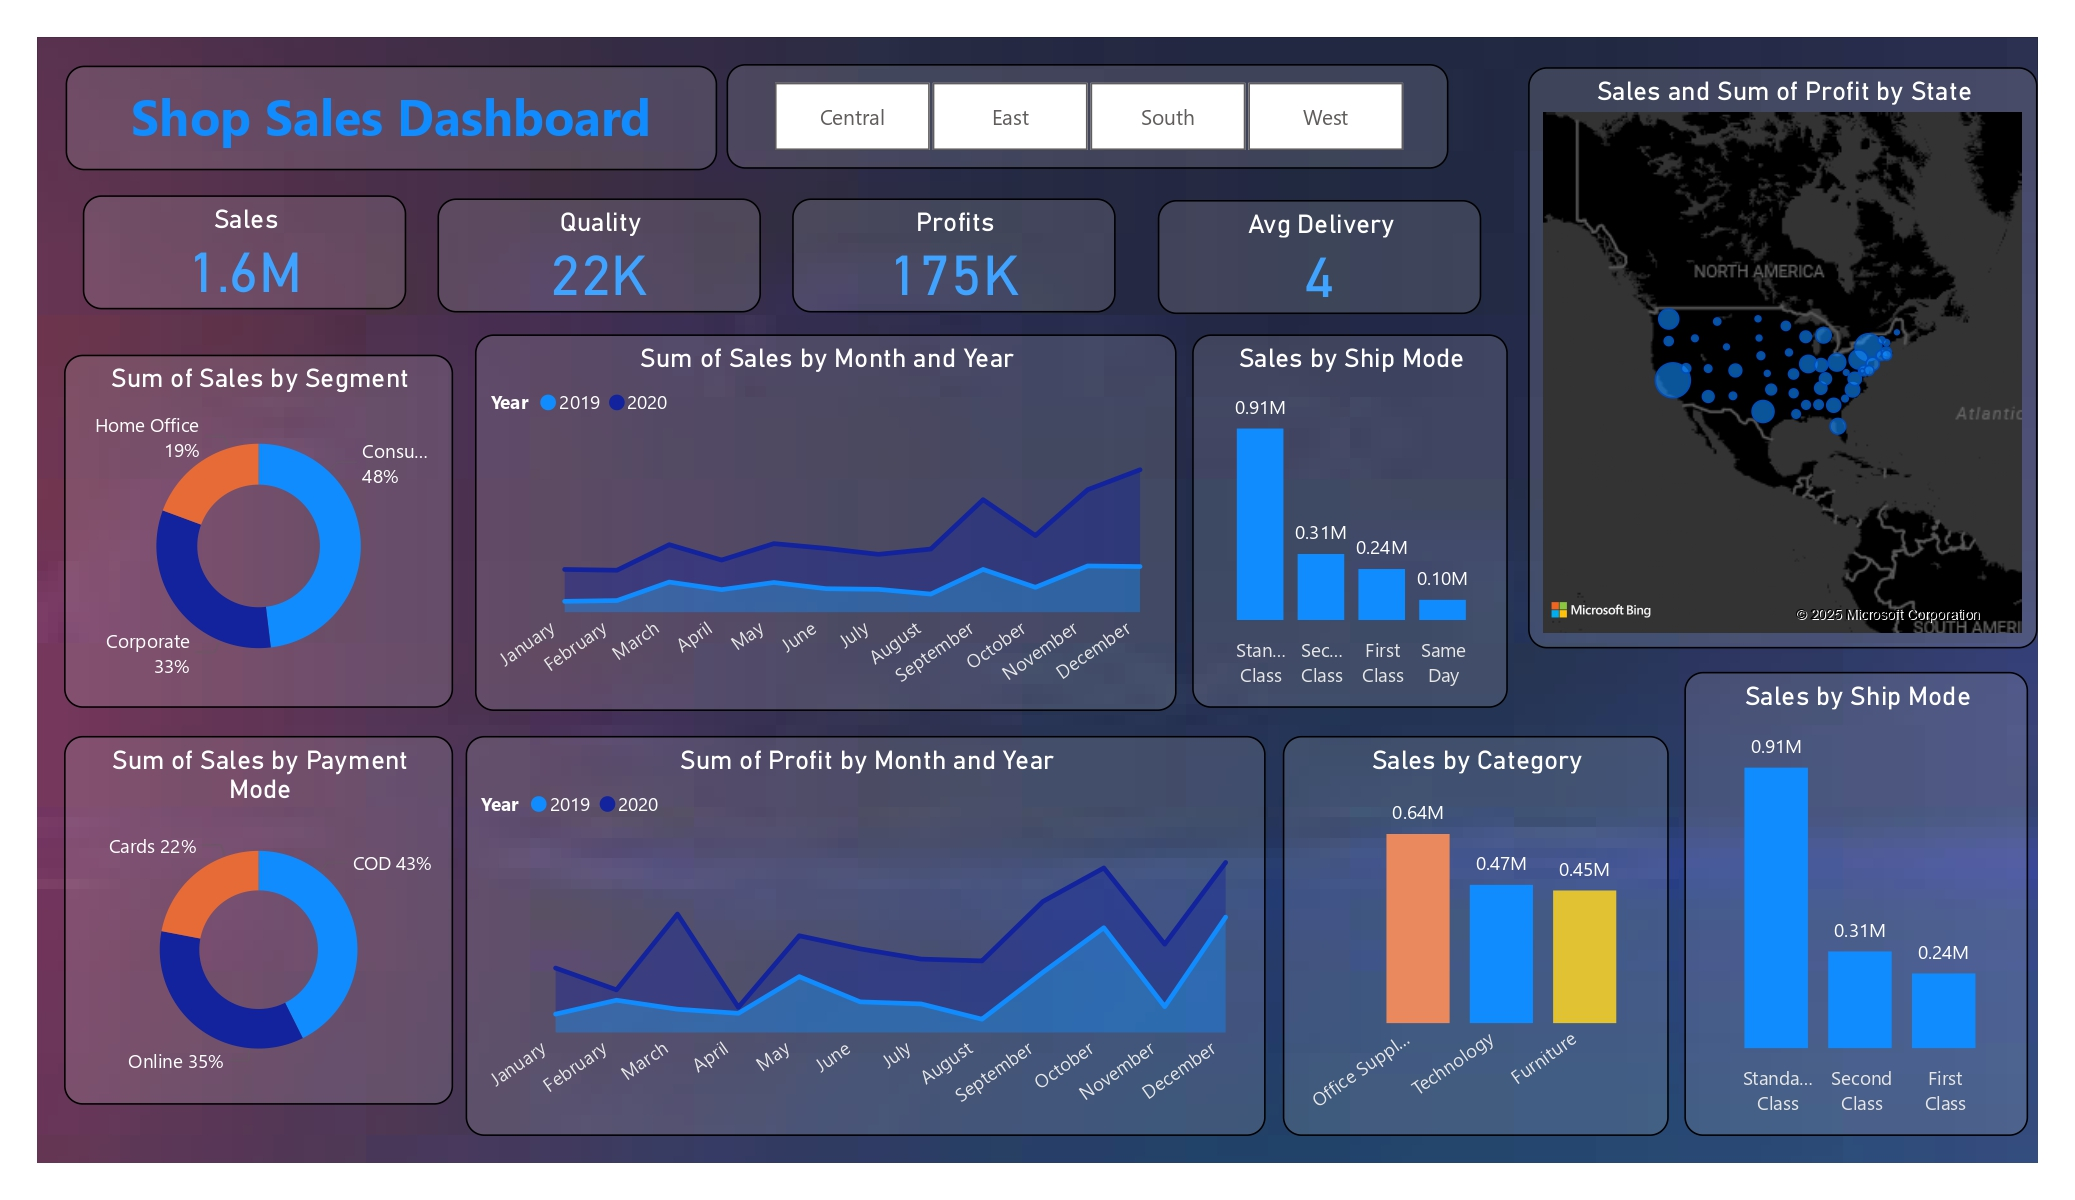

Layout of this report page (visuals, bound fields, positions):
{"tool":"powerbi","page":{"name":"Dashboard","canvas":[1280,720],"ordinal":0},"visuals":[{"type":"clusteredColumnChart","title":"Sales by Category","fields":{"Y":["Sum(SuperStore_Sales_Dataset.Sales)"],"Category":["SuperStore_Sales_Dataset.Category"]},"box":[797.1,447.1,247.1,255.7],"z":0},{"type":"clusteredColumnChart","title":"Sales by Ship Mode","fields":{"Y":["Sum(SuperStore_Sales_Dataset.Sales)"],"Category":["SuperStore_Sales_Dataset.Ship Mode"]},"box":[1054.3,405.7,220,297.1],"z":1000},{"type":"clusteredColumnChart","title":"Sales by Ship Mode","fields":{"Category":["SuperStore_Sales_Dataset.Ship Mode"],"Y":["Sum(SuperStore_Sales_Dataset.Sales)"]},"box":[738.6,190,202.9,238.6],"z":2000},{"type":"stackedAreaChart","fields":{"Category":["SuperStore_Sales_Dataset.Order Date.Variation.Date Hierarchy.Month","SuperStore_Sales_Dataset.Order Date.Variation.Date Hierarchy.Day"],"Y":["Sum(SuperStore_Sales_Dataset.Sales)"],"Series":["SuperStore_Sales_Dataset.Order Date.Variation.Date Hierarchy.Year"]},"box":[288.6,190,434.3,241.4],"z":3000},{"type":"stackedAreaChart","fields":{"Category":["SuperStore_Sales_Dataset.Order Date.Variation.Date Hierarchy.Month","SuperStore_Sales_Dataset.Order Date.Variation.Date Hierarchy.Day"],"Series":["SuperStore_Sales_Dataset.Order Date.Variation.Date Hierarchy.Year"],"Y":["Sum(SuperStore_Sales_Dataset.Profit)"]},"box":[274.3,447.1,511.4,255.7],"z":4000},{"type":"map","title":"Sales and Sum of Profit by State","fields":{"Category":["SuperStore_Sales_Dataset.State"],"Size":["Sum(SuperStore_Sales_Dataset.Sales)"]},"box":[954.3,18.6,325.7,372.9],"z":5000},{"type":"donutChart","fields":{"Category":["SuperStore_Sales_Dataset.Segment"],"Y":["Sum(SuperStore_Sales_Dataset.Sales)"]},"box":[17.1,202.9,248.6,225.7],"z":6000},{"type":"donutChart","fields":{"Y":["Sum(SuperStore_Sales_Dataset.Sales)"],"Category":["SuperStore_Sales_Dataset.Payment Mode"]},"box":[17.1,447.1,248.6,235.7],"z":7000},{"type":"slicer","fields":{"Values":["SuperStore_Sales_Dataset.Region"]},"box":[441.4,17.1,461.4,67.1],"z":8000},{"type":"textbox","box":[17.8,17.8,417.2,67.2],"z":9000},{"type":"card","title":"Sales","fields":{"Values":["Sum(SuperStore_Sales_Dataset.Sales)"]},"box":[28.6,101.4,207.1,72.9],"z":10000},{"type":"card","title":"Profits ","fields":{"Values":["Sum(SuperStore_Sales_Dataset.Profit)"]},"box":[482.9,102.9,207.1,72.9],"z":11000},{"type":"card","title":"Quality","fields":{"Values":["Sum(SuperStore_Sales_Dataset.Quantity)"]},"box":[255.7,102.9,207.1,72.9],"z":12000},{"type":"card","title":"Avg Delivery","fields":{"Values":["Avg(SuperStore_Sales_Dataset.AVgDelivery)"]},"box":[717.1,104.3,207.1,72.9],"z":13000}]}

Visuals, with their boxes on the page's 1280x720 design canvas (x1, y1, x2, y2). These are canvas units, not pixel positions in the 2075x1200 screenshot, which may show the page scaled, cropped or inside an application window:
"Sales by Category" clusteredColumnChart: (797, 447, 1044, 703)
"Sales by Ship Mode" clusteredColumnChart: (1054, 406, 1274, 703)
"Sales by Ship Mode" clusteredColumnChart: (739, 190, 942, 429)
stackedAreaChart - SuperStore_Sales_Dataset.Order Date.Variation.Date Hierarchy.Month x SuperStore_Sales_Dataset.Order Date.Variation.Date Hierarchy.Day: (289, 190, 723, 431)
stackedAreaChart - SuperStore_Sales_Dataset.Order Date.Variation.Date Hierarchy.Month x SuperStore_Sales_Dataset.Order Date.Variation.Date Hierarchy.Day: (274, 447, 786, 703)
"Sales and Sum of Profit by State" map: (954, 19, 1280, 392)
donutChart - SuperStore_Sales_Dataset.Segment x Sum(SuperStore_Sales_Dataset.Sales): (17, 203, 266, 429)
donutChart - Sum(SuperStore_Sales_Dataset.Sales) x SuperStore_Sales_Dataset.Payment Mode: (17, 447, 266, 683)
slicer - SuperStore_Sales_Dataset.Region: (441, 17, 903, 84)
textbox: (18, 18, 435, 85)
"Sales" card: (29, 101, 236, 174)
"Profits " card: (483, 103, 690, 176)
"Quality" card: (256, 103, 463, 176)
"Avg Delivery" card: (717, 104, 924, 177)
